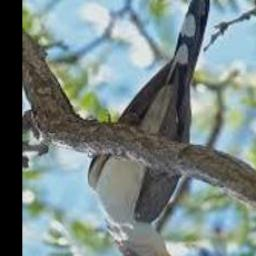Cuckoo: (88, 0, 211, 256)
